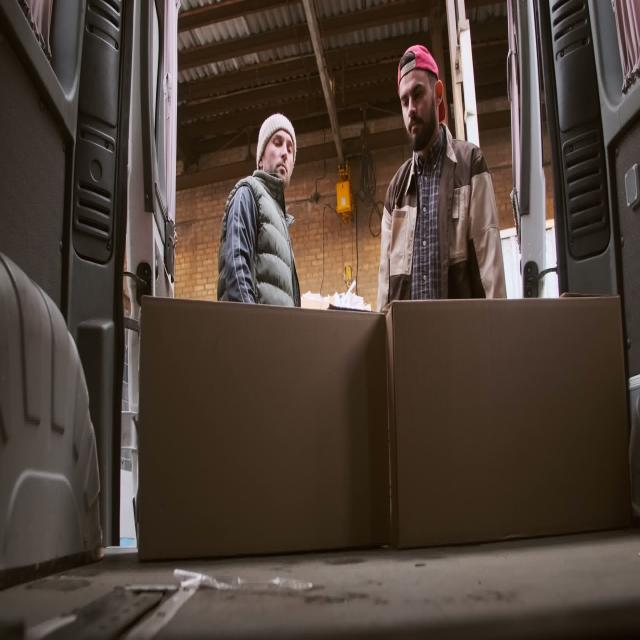counting-the-number-of-boxes: (139, 296, 390, 560), (384, 296, 634, 552)
